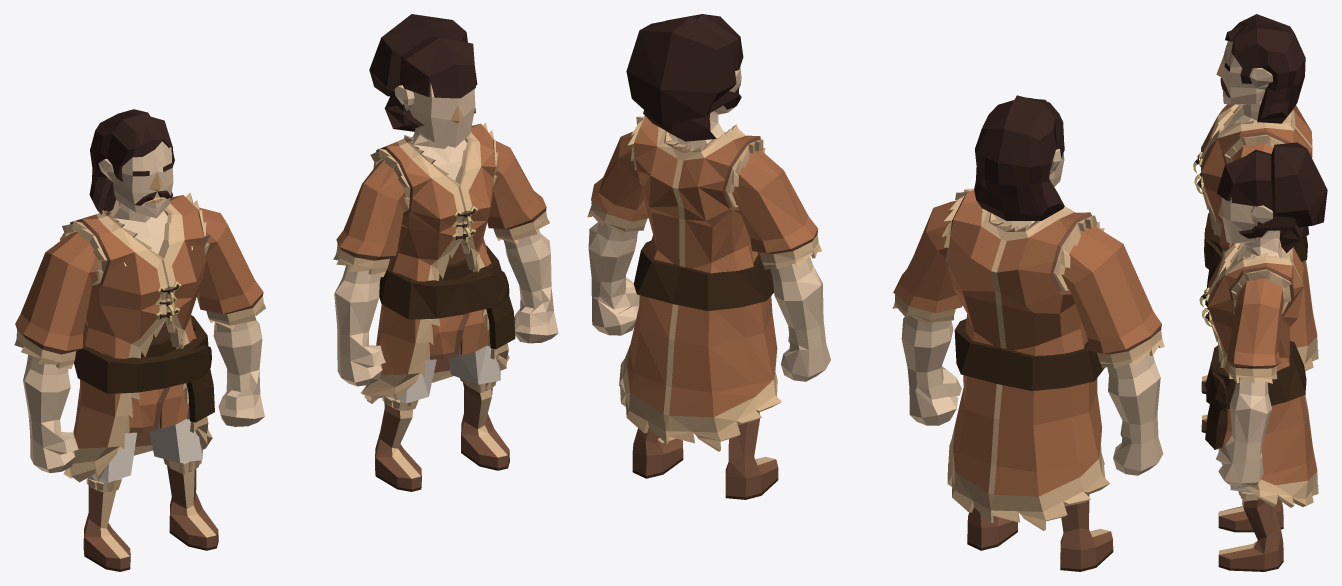
The model's file is NPC_furclad.fbx.
The picture shows the model from 3 angles, left to right: view 1: azimuth 30°, elevation 25°; view 2: azimuth 150°, elevation 25°; view 3: azimuth 270°, elevation 25°; orthographic projection. The views are drawn at different scales.
Visible parts, largest first — view 1: NPC_01_chainhauberk_bi_export:npc_fur_male, NPC_01_chainhauberk_bi_export:npc_fur_female; view 2: NPC_01_chainhauberk_bi_export:npc_fur_male, NPC_01_chainhauberk_bi_export:npc_fur_female; view 3: NPC_01_chainhauberk_bi_export:npc_fur_female, NPC_01_chainhauberk_bi_export:npc_fur_male.
Part boxes in pixels (x1,y1,x2,y2): NPC_01_chainhauberk_bi_export:npc_fur_male: [14, 109, 265, 571]; NPC_01_chainhauberk_bi_export:npc_fur_female: [333, 14, 558, 491]; NPC_01_chainhauberk_bi_export:npc_fur_male: [892, 95, 1164, 571]; NPC_01_chainhauberk_bi_export:npc_fur_female: [587, 14, 830, 499]; NPC_01_chainhauberk_bi_export:npc_fur_female: [1199, 142, 1327, 571]; NPC_01_chainhauberk_bi_export:npc_fur_male: [1193, 14, 1318, 432].
Size of the model in its own units: 1161 by 915 by 279.
